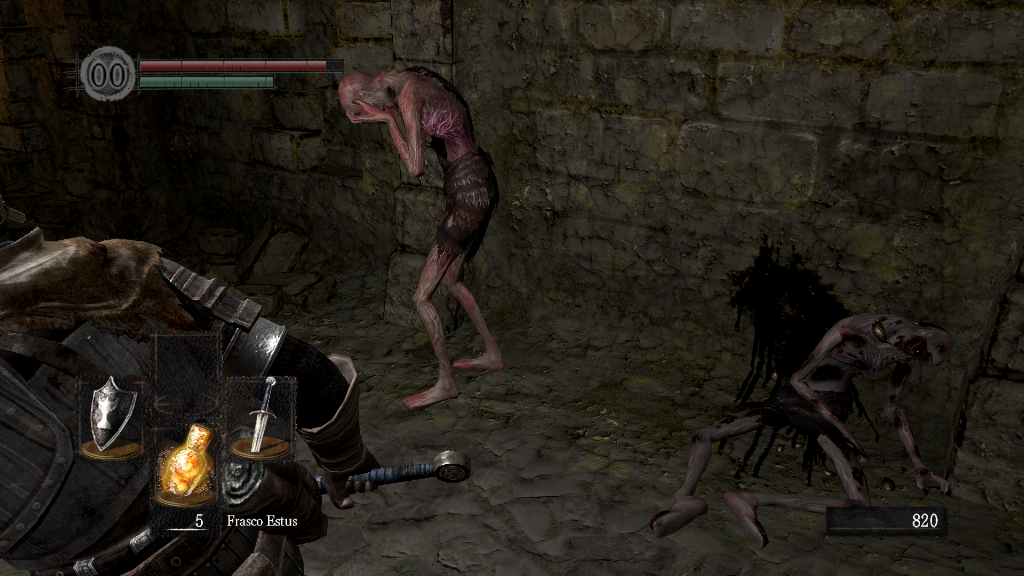health: (138, 58, 343, 71)
hollow: (337, 71, 503, 409)
humanity: (80, 45, 136, 102)
player: (1, 179, 474, 576)
souls: (825, 506, 945, 536)
stamina: (138, 74, 274, 88)
